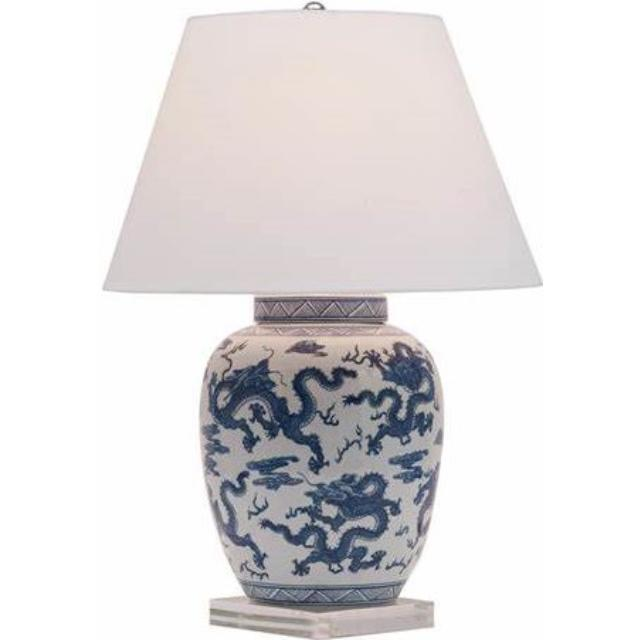lamp: (103, 6, 543, 640)
